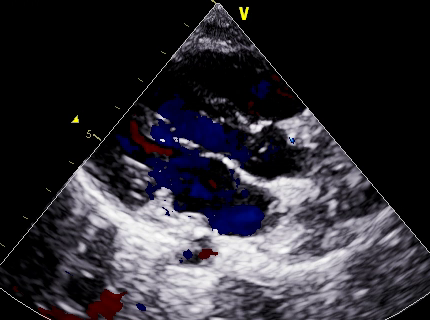MR: (132, 129, 201, 194)
